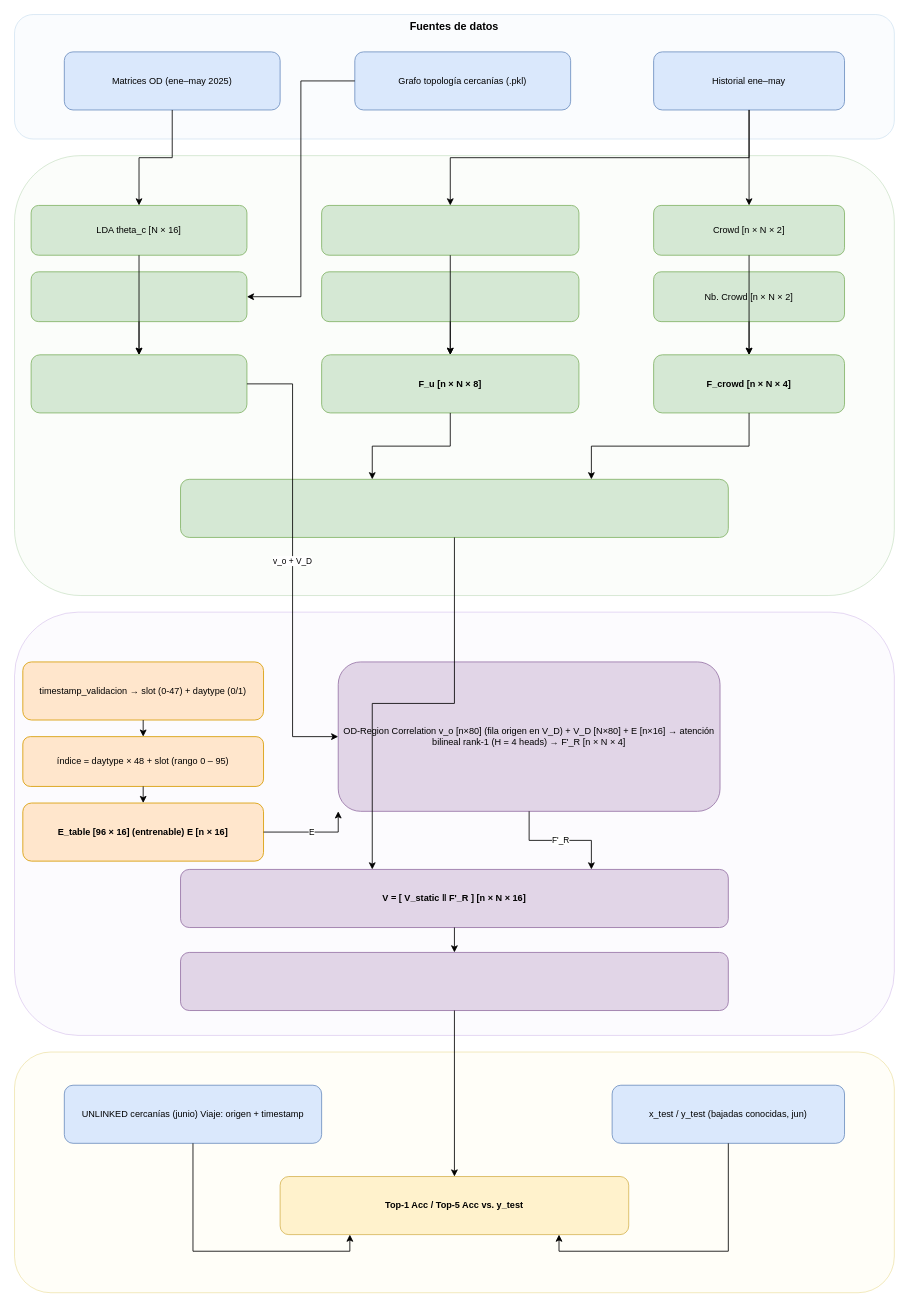
Image size: 909x1307. Some labels were removed from this diagram. The shapes that lost their labels are listed below. From the top down, each one's box as (x1, y1, x2, y2) in pixels, then its label:
(321, 205, 579, 255): Individual Features TD×2, SD, TSD×2, TSI → 6 dims
(30, 271, 247, 322): LINE line_c [N × 64]
(321, 271, 579, 322): + PROX (validaciones en otros modos) → 8 dims total
(30, 354, 247, 413): V_D = [theta_c ‖ line_c] [N × 80]
(14, 155, 894, 596): Extracción de características
(180, 478, 728, 537): V_static = [F_u ‖ F_crowd] [n × N × 12]
(14, 611, 894, 1035): Módulo de predicción
(180, 952, 728, 1011): CNN 3 × Conv1d (kernel = 1) [n × N × 16] → [n × N × 1] → logits [n × N]
(14, 1051, 894, 1293): Predicción y evaluación
